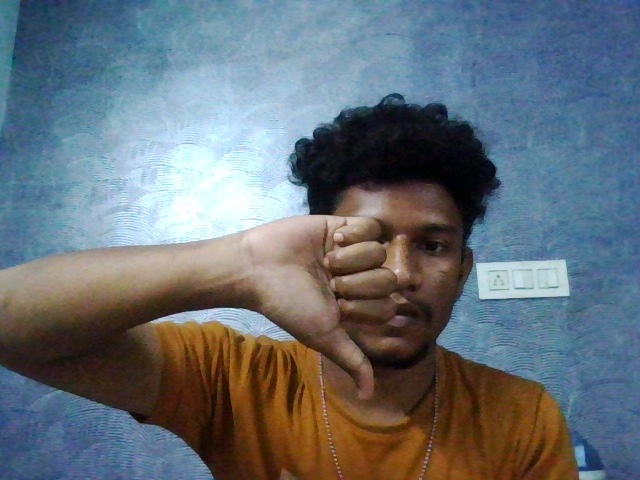no: (223, 206, 403, 418)
